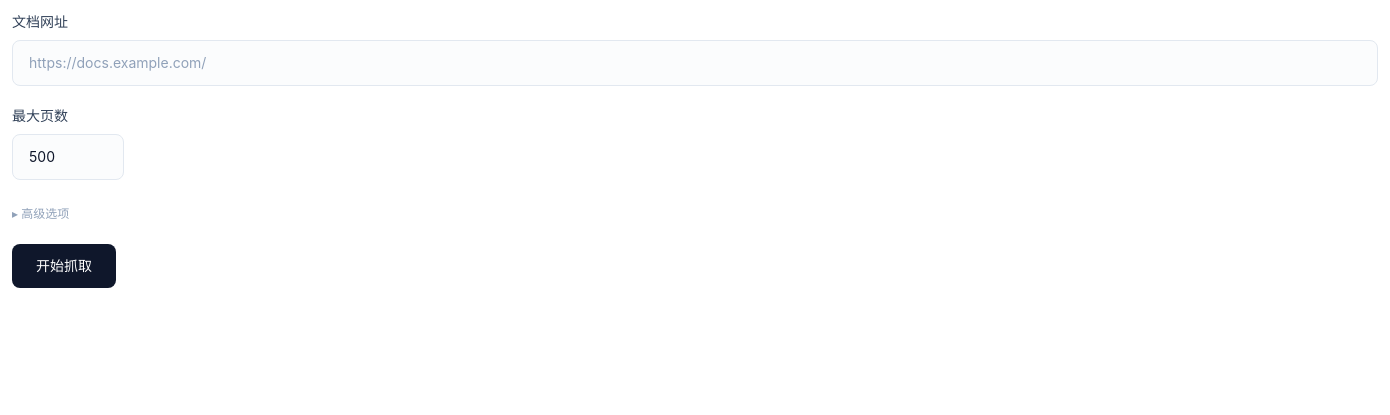
UrlInputForm › shows advanced options when toggle is clicked
expect the field labelled "范围路径" is not shown: met
Click the button "▸ 高级选项" at (41, 214), box [12,206,69,222]
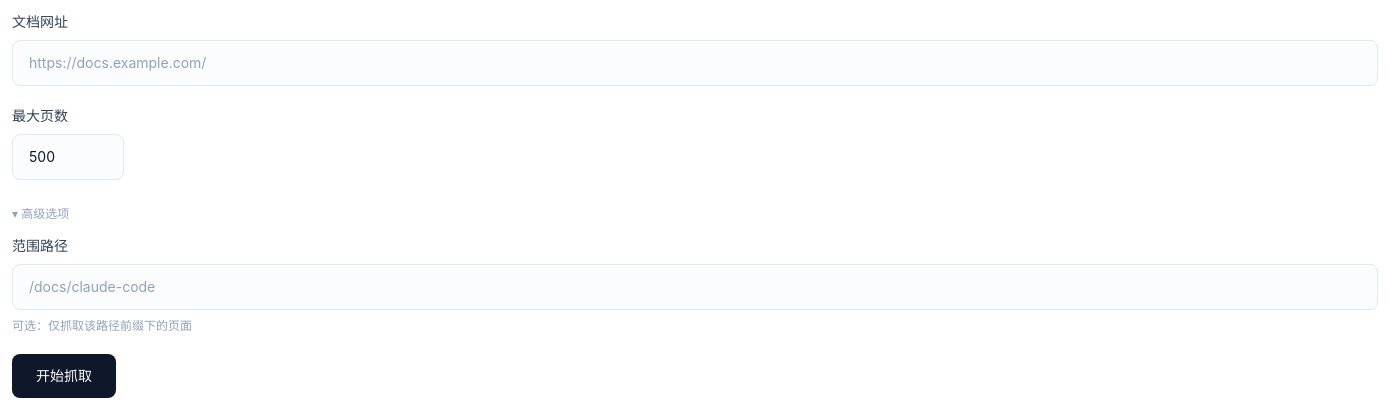
expect the field labelled "范围路径" is shown: met, box [12,264,1378,310]
